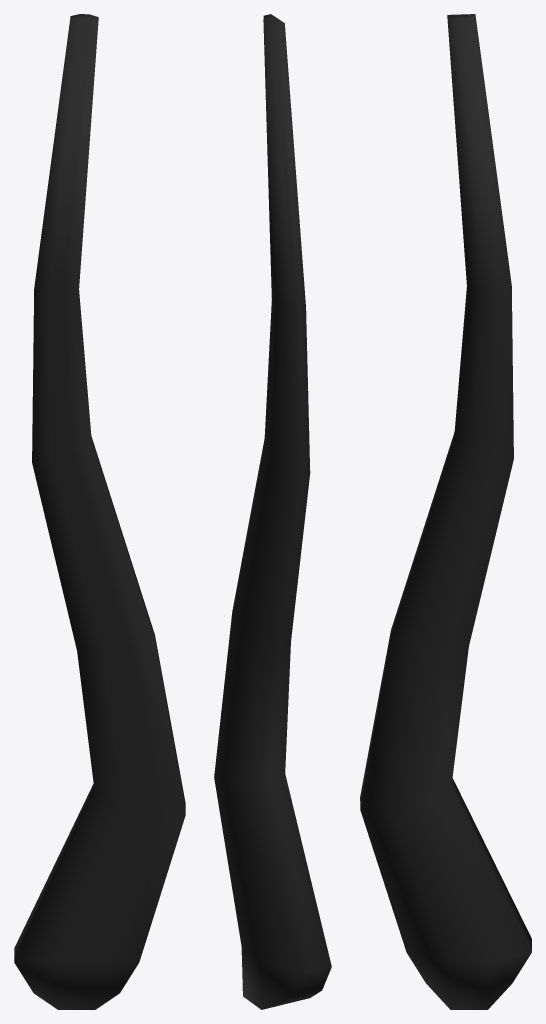
The model's file is MiscClockHandHour.fbx.
3 views of the same model, side by side, from view 1: azimuth 90°, elevation 25°; view 2: azimuth 210°, elevation 25°; view 3: azimuth 270°, elevation 25° (orthographic).
Parts seen in each view (by area): view 1: polySurface5; view 2: polySurface5; view 3: polySurface5.
Part boxes in pixels (left/top/right/bottom): polySurface5: left=14, top=14, right=185, bottom=1009; polySurface5: left=214, top=14, right=331, bottom=1009; polySurface5: left=360, top=14, right=531, bottom=1009.
Size of the model in its own units: 0.0998 by 1.92 by 0.3039.
